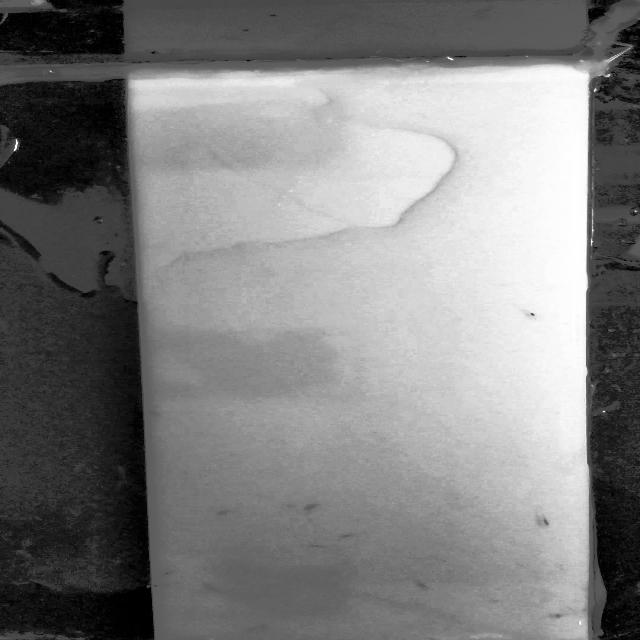shrimp: (296, 501, 330, 515), (535, 512, 559, 528), (203, 581, 226, 596), (144, 408, 168, 422), (305, 540, 337, 550), (146, 580, 186, 588), (527, 309, 550, 321), (212, 508, 239, 518), (337, 530, 361, 541), (417, 580, 439, 591), (237, 627, 259, 636), (166, 568, 182, 579), (546, 612, 568, 620), (257, 623, 271, 635)
